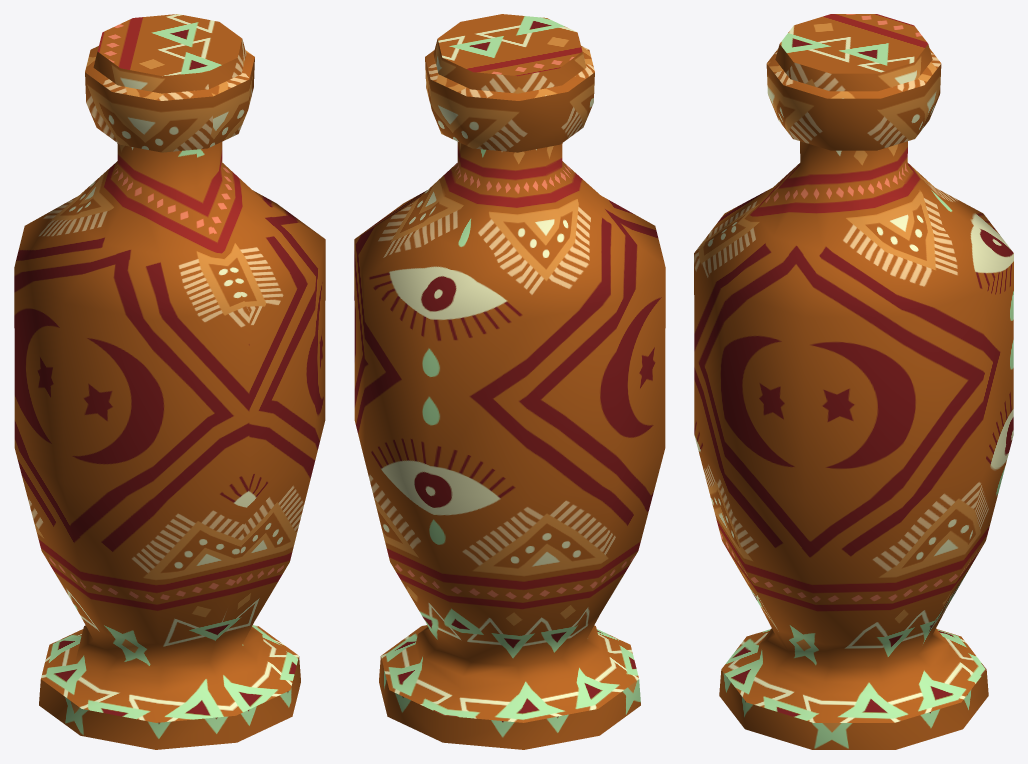
Rendered from vase5.fbx.
3 renders of one model, left to right at view 1: azimuth 30°, elevation 25°; view 2: azimuth 150°, elevation 25°; view 3: azimuth 270°, elevation 25°, orthographic.
Parts seen in each view (by area): view 1: PotC; view 2: PotC; view 3: PotC.
Part boxes in pixels (x1=…): PotC: x1=14, y1=14, x2=325, y2=749; PotC: x1=354, y1=14, x2=665, y2=749; PotC: x1=694, y1=14, x2=1013, y2=749.
Size of the model in its own units: 18.05 by 42.68 by 18.98.
